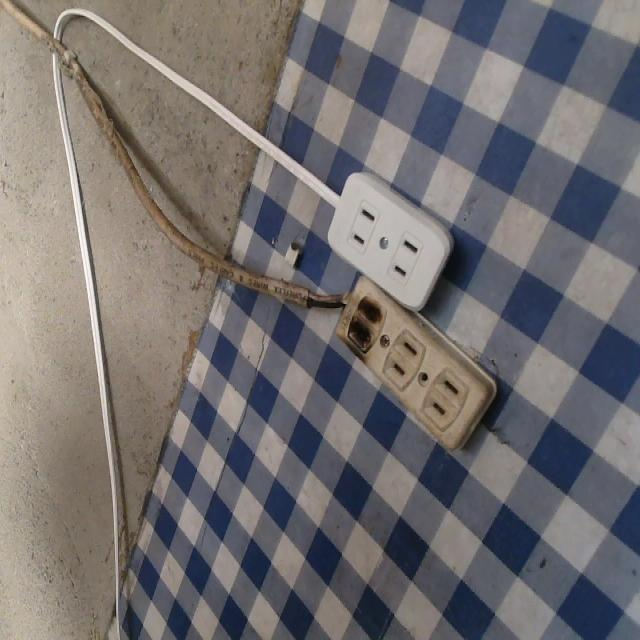-: (342, 292, 395, 359)
